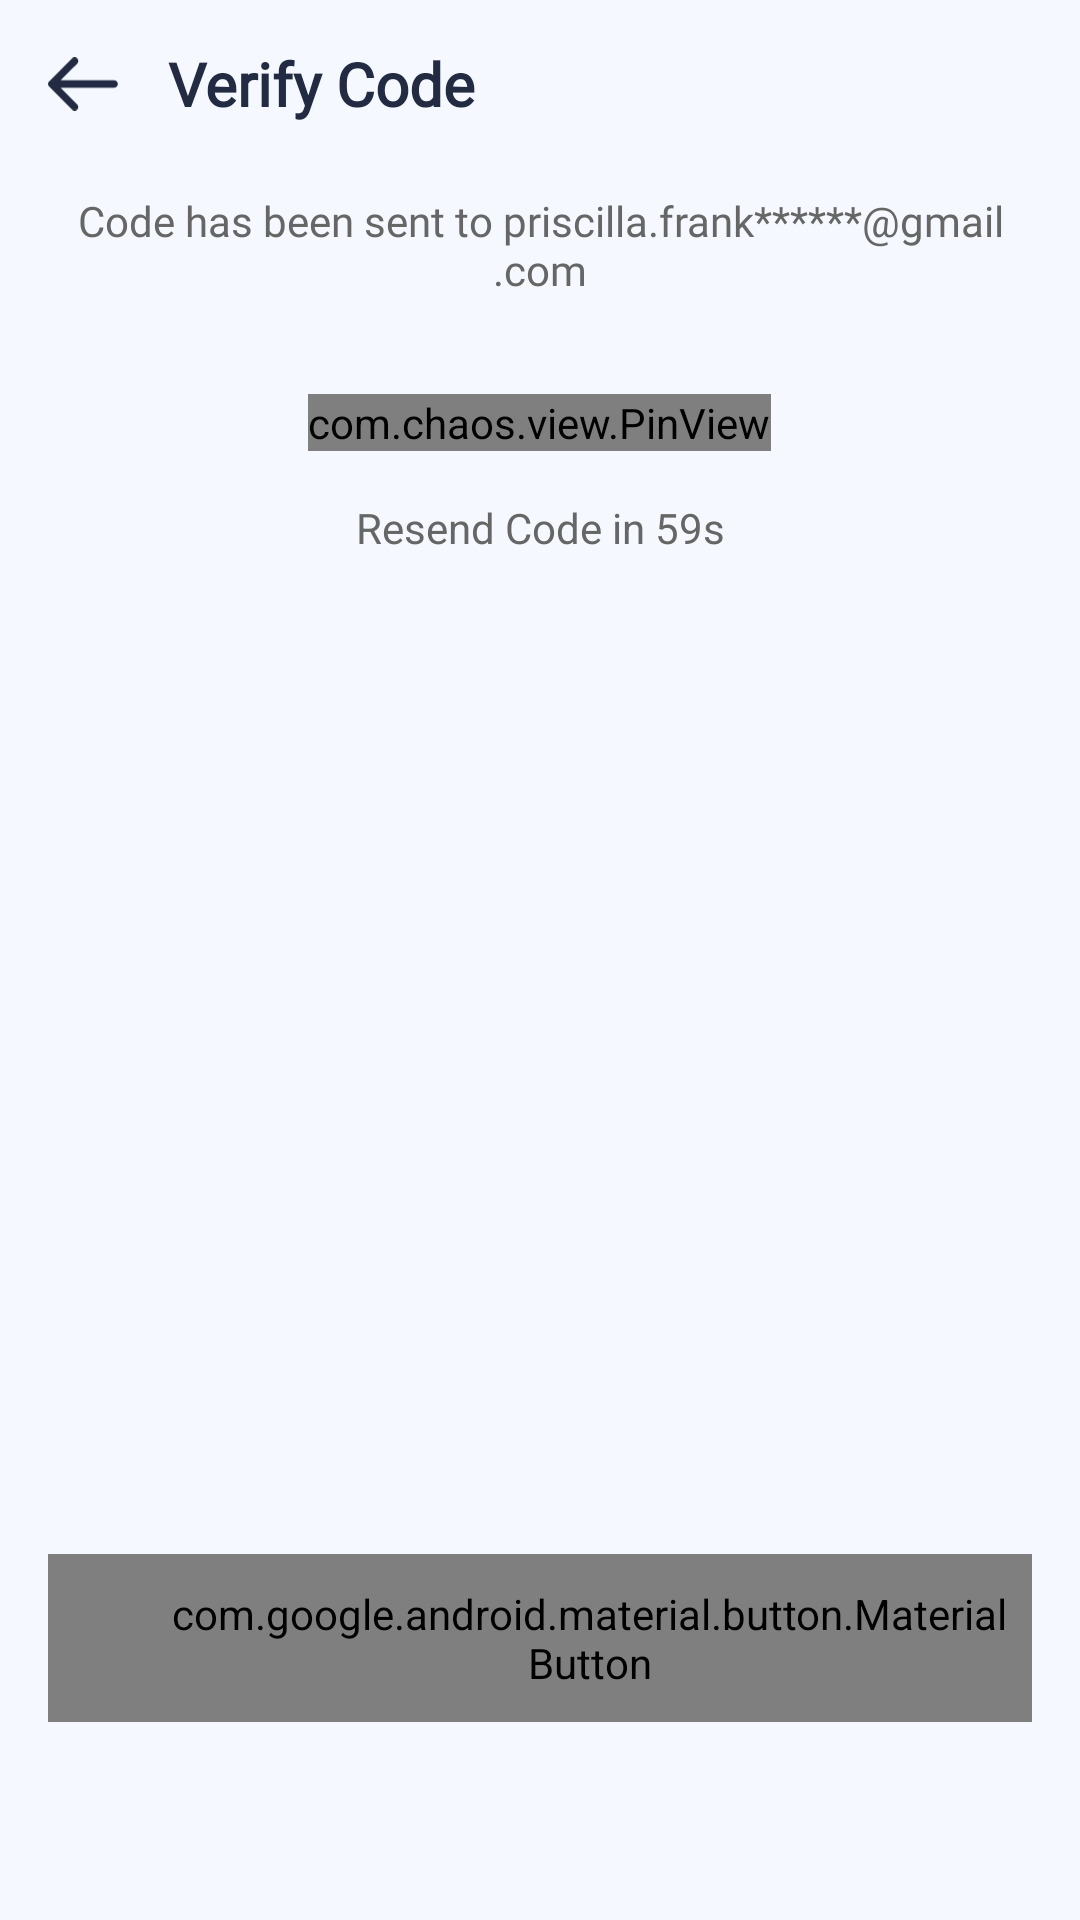

Locate icon controls on the screen. Image size 1080px x 1920px, boxes as {"x1": x1, "y1": y1, "x2": x2, "y2": y2}.
Back: {"x1": 48, "y1": 57, "x2": 118, "y2": 111}
